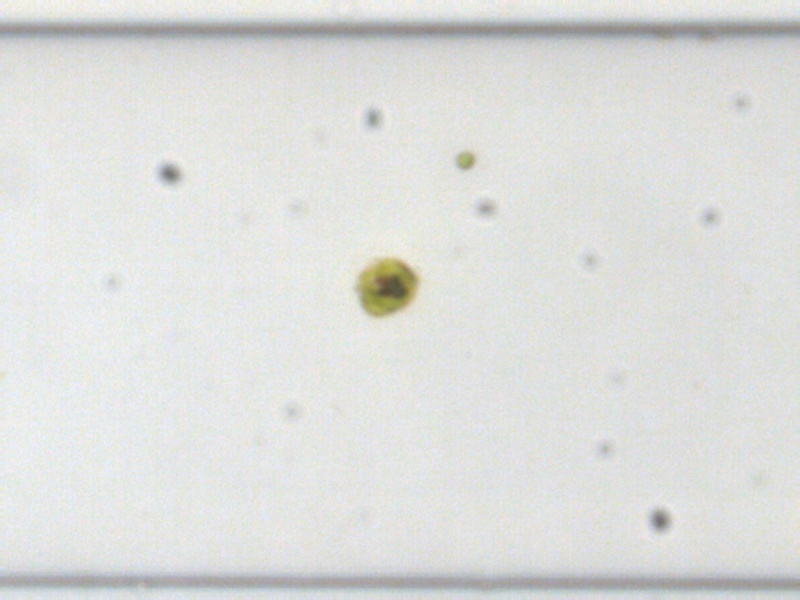Chlorella: (454, 149, 475, 170)
Haematococcus: (349, 253, 423, 321)
